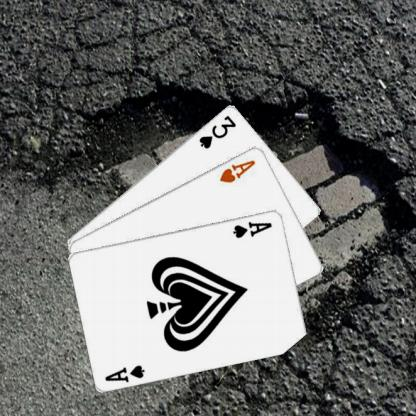3S: (196, 113, 238, 150)
AH: (217, 157, 257, 184)
AS: (102, 362, 146, 383), (231, 218, 273, 239)
